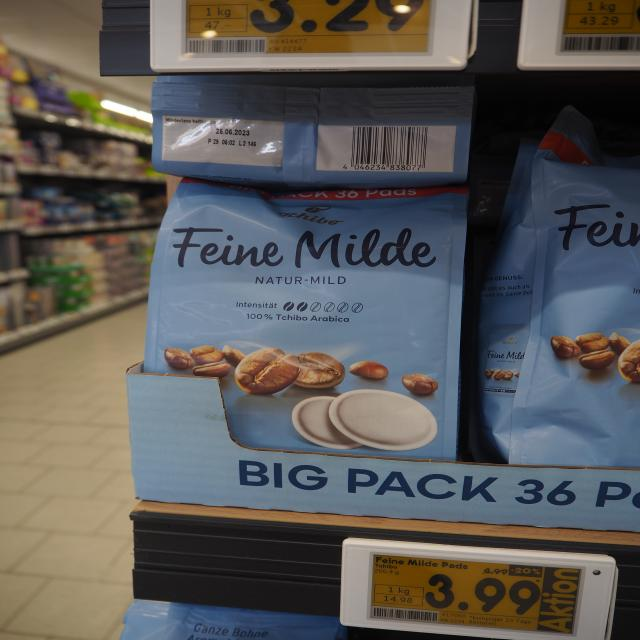FM 36 Pads: (137, 175, 474, 521)
